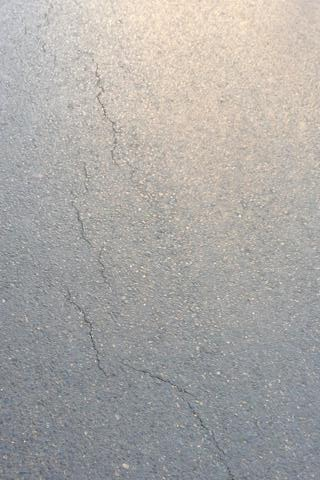A: (70, 53, 119, 382), (129, 355, 232, 480)
